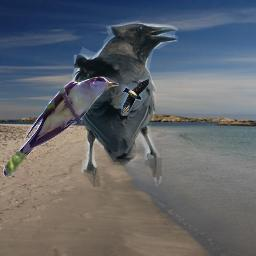Crow: (72, 18, 178, 187)
Cuckoo: (3, 76, 119, 176)
Swallow: (121, 78, 149, 116)
